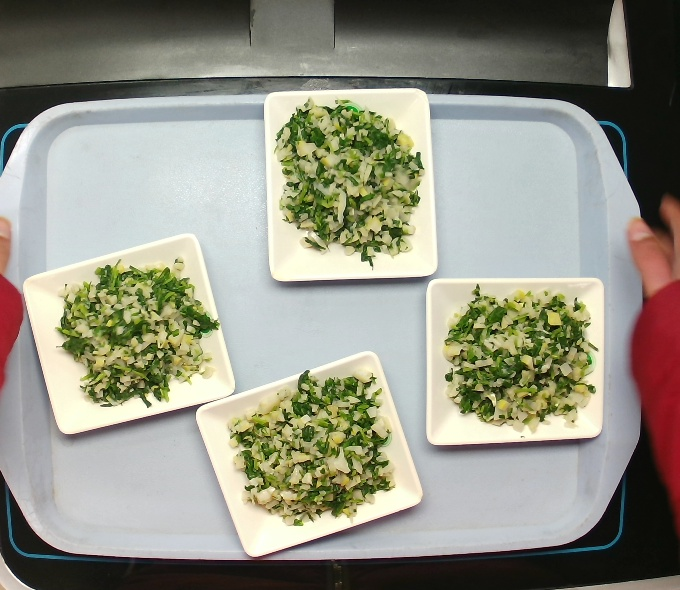wcq-MaLanTouBanChunSun: (207, 360, 414, 533), (45, 246, 223, 417), (424, 277, 608, 436), (276, 103, 422, 265)
